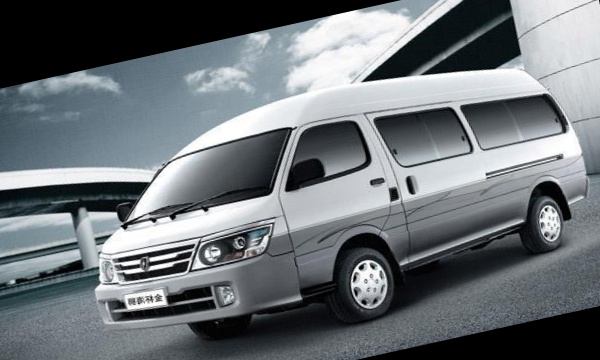van: (59, 38, 600, 360)
